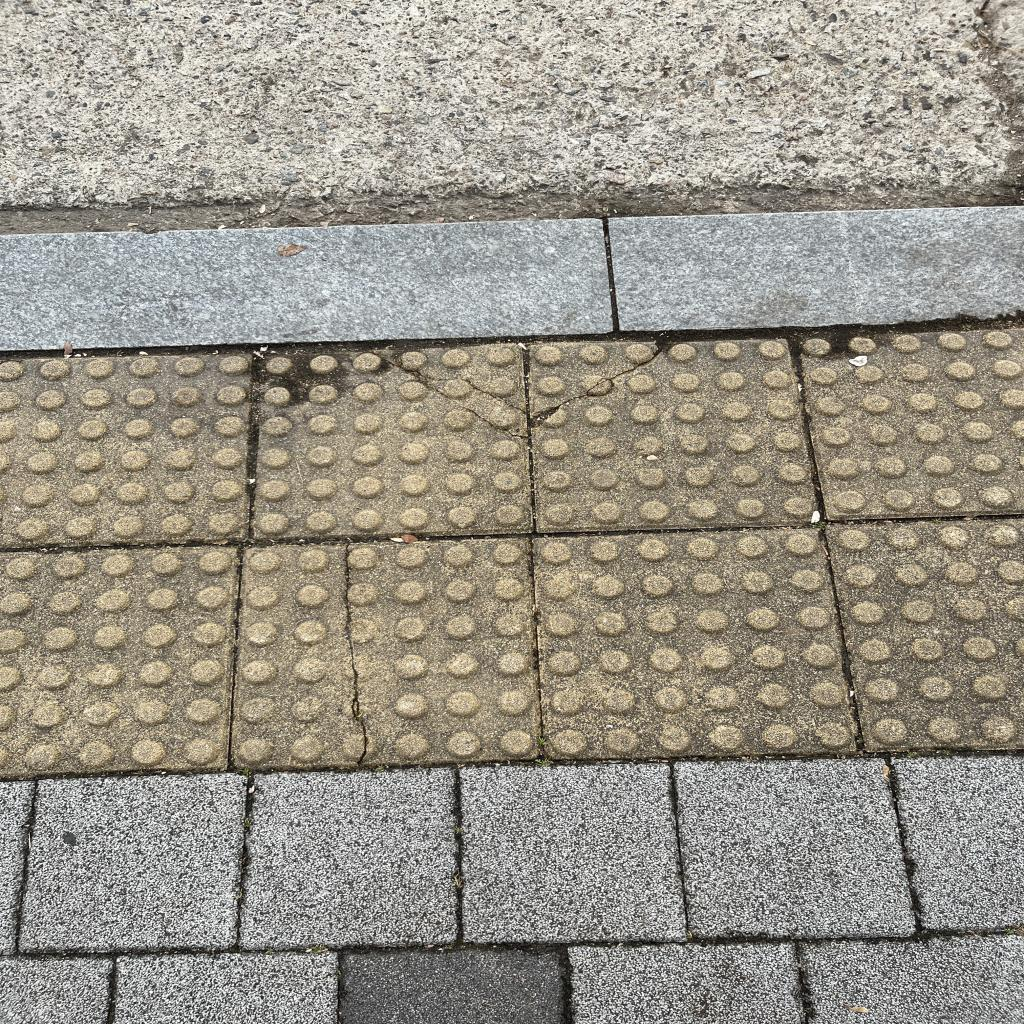Stop block broken: (226, 537, 537, 767), (528, 334, 819, 532)
Stop block normal: (535, 526, 854, 758), (249, 343, 531, 537)
